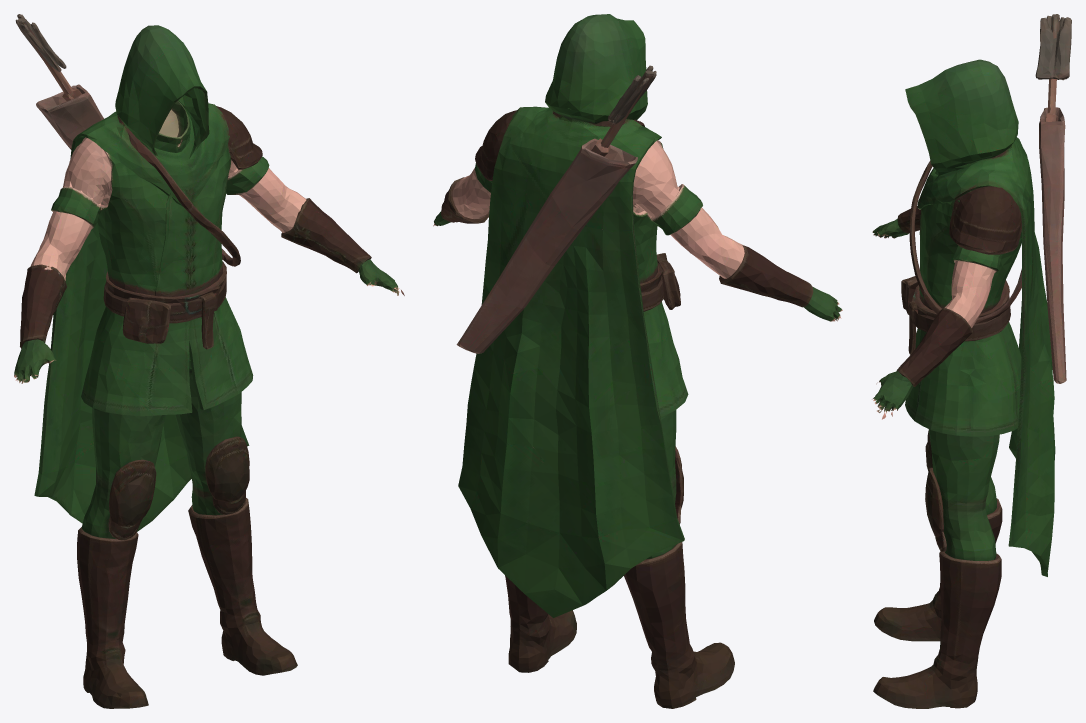
Rendered from ewm_t2robinhood_outfit.glb.
3 renders of one model, left to right at view 1: azimuth 30°, elevation 25°; view 2: azimuth 150°, elevation 25°; view 3: azimuth 270°, elevation 25°, orthographic. The views are drawn at different scales.
Parts seen in each view (by area): view 1: ewm_t2robinhood_outfit; view 2: ewm_t2robinhood_outfit; view 3: ewm_t2robinhood_outfit.
Part boxes in pixels (x1=…): ewm_t2robinhood_outfit: x1=14, y1=14, x2=404, y2=708; ewm_t2robinhood_outfit: x1=433, y1=14, x2=842, y2=708; ewm_t2robinhood_outfit: x1=872, y1=14, x2=1071, y2=708.
Size of the model in its own units: 1.19 by 1.89 by 0.5631.
1 material, 1 textured.
